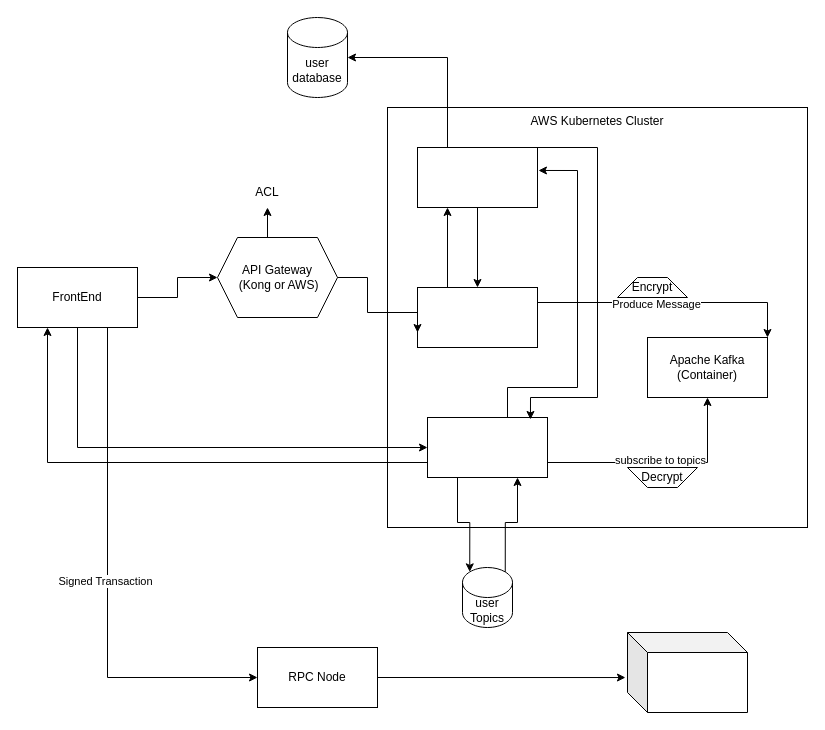
The diagram is 825 pixels wide and 730 high, and some of its shapes have lost their labels. Here are the shapes that lost their labels. From the top down, the box of each, then its label:
(416, 146, 538, 208): User Authentication Service (Container)
(416, 286, 538, 348): API Server (Container)
(426, 416, 548, 478): Message Consumption (Container)
(626, 632, 748, 712): on chain Smart Contract
